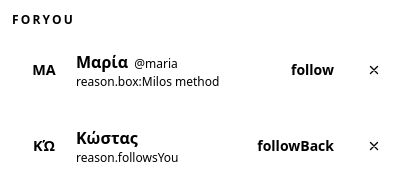
FindFollowSuggestions › ✕ removes a person in place and «Αναίρεση» brings them back
The width and height of the screenshot is (402, 179).
Click the button named "dismiss:Μαρία" at (374, 70), box [358,54,390,86]
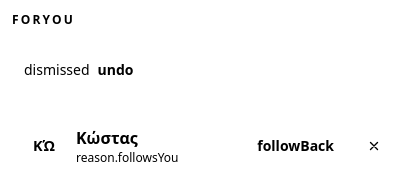
expect the text "dismissed" is shown: met, box [24,60,90,80]
Click the button "undo" at (116, 70), box [98,48,134,92]
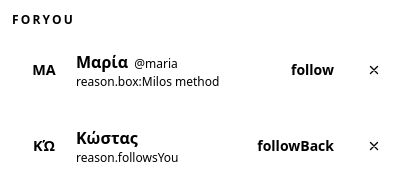
expect the text "reason.box:Milos method" is shown: met, box [76,74,219,90]
